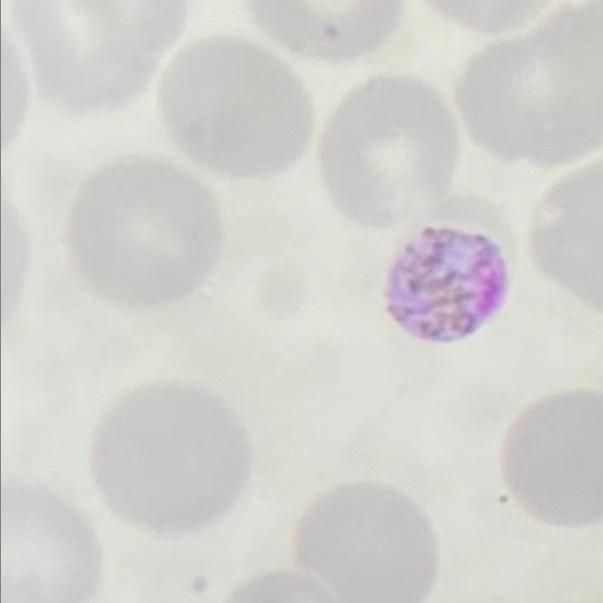Infected: (384, 228, 510, 342)
Uninfected: (95, 378, 250, 531), (161, 33, 317, 181), (68, 155, 224, 301), (323, 74, 459, 230)
